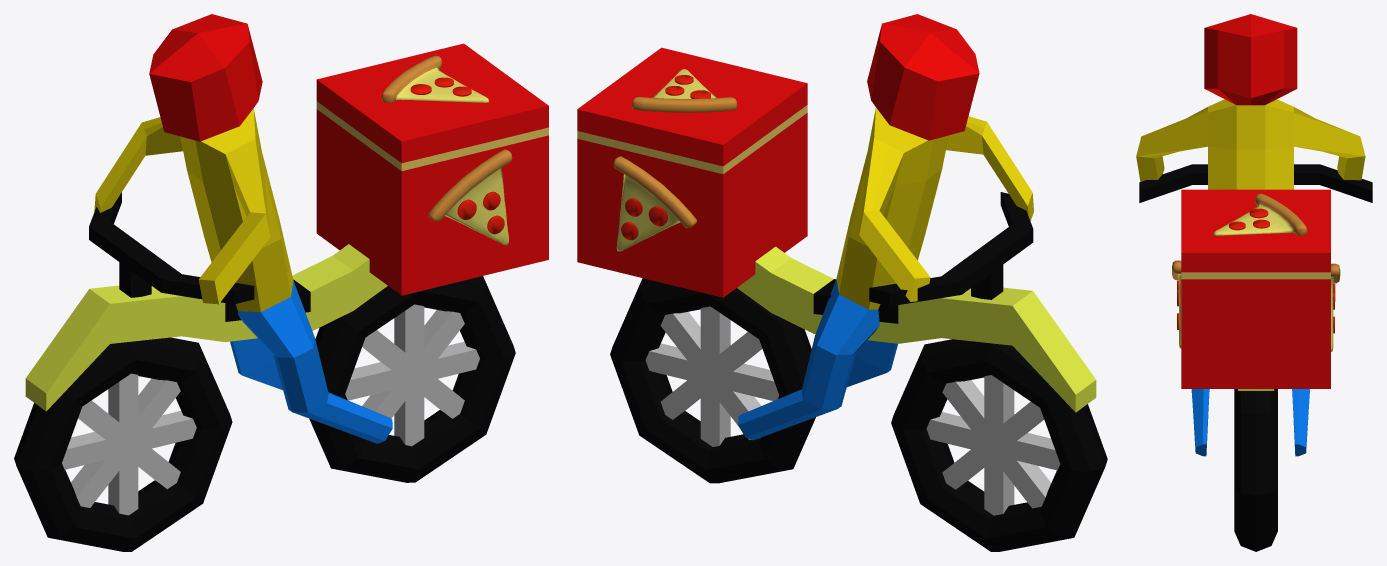
File: Delivery Guy.fbx
The picture shows the model from 3 angles, left to right: view 1: azimuth 30°, elevation 25°; view 2: azimuth 150°, elevation 25°; view 3: azimuth 270°, elevation 25°; orthographic projection. The views are drawn at different scales.
Parts seen in each view (by area): view 1: Cube; view 2: Cube; view 3: Cube.
Part boxes in pixels (bbox=[...]): Cube: bbox=[14, 14, 548, 551]; Cube: bbox=[577, 14, 1107, 551]; Cube: bbox=[1136, 14, 1372, 551].
Size of the model in its own units: 582 by 563 by 272.
